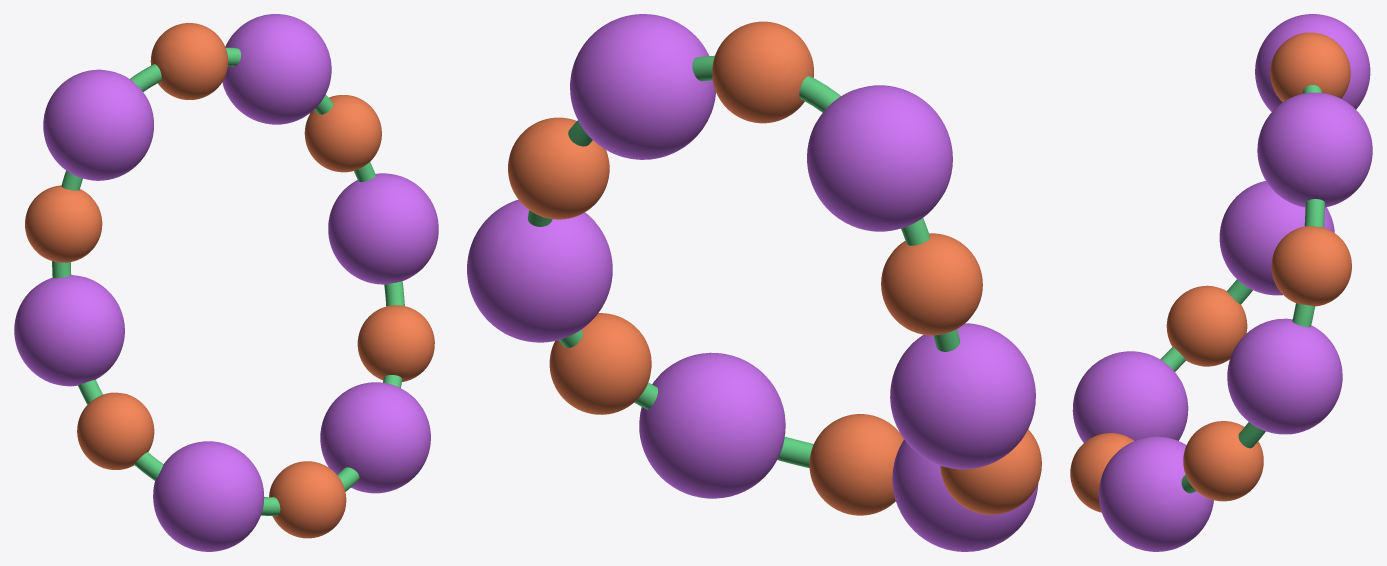
The model's file is 10. Beads.glb.
The picture shows the model from 3 angles, left to right: view 1: azimuth 30°, elevation 25°; view 2: azimuth 150°, elevation 25°; view 3: azimuth 270°, elevation 25°; orthographic projection. The views are drawn at different scales.
Visible parts, largest first — view 1: Sphere.029, Sphere.025, Sphere.024, Sphere.027, Sphere.026, Sphere.028, Sphere.030, Sphere.035, Sphere.032, Sphere.034, Sphere.031, Sphere.033 (+1 smaller); view 2: Sphere.029, Sphere.026, Sphere.028, Sphere.024, Sphere.027, Sphere.035, Sphere.034, Sphere.033, Sphere.032, Sphere.031, Sphere.025, Sphere.030 (+1 smaller); view 3: Sphere.027, Sphere.028, Sphere.026, Sphere.025, Sphere.024, Sphere.033, Sphere.030, Sphere.032, Sphere.034, Sphere.029, Sphere.031, Beads.
Part boxes in pixels (left/top/right/bottom): Sphere.029: left=43, top=69, right=153, bottom=180; Sphere.025: left=153, top=441, right=264, bottom=551; Sphere.024: left=14, top=275, right=124, bottom=386; Sphere.027: left=328, top=173, right=438, bottom=284; Sphere.026: left=320, top=382, right=430, bottom=493; Sphere.028: left=222, top=14, right=331, bottom=124; Sphere.030: left=77, top=392, right=154, bottom=469; Sphere.035: left=25, top=185, right=102, bottom=262; Sphere.032: left=357, top=305, right=434, bottom=381; Sphere.034: left=150, top=23, right=228, bottom=99; Sphere.031: left=269, top=461, right=346, bottom=538; Sphere.033: left=304, top=95, right=381, bottom=172; Sphere.029: left=807, top=85, right=952, bottom=231; Sphere.026: left=639, top=352, right=785, bottom=498; Sphere.028: left=570, top=14, right=715, bottom=159; Sphere.024: left=890, top=323, right=1035, bottom=469; Sphere.027: left=467, top=199, right=612, bottom=342; Sphere.035: left=881, top=233, right=982, bottom=335; Sphere.034: left=712, top=21, right=813, bottom=123; Sphere.033: left=508, top=117, right=609, bottom=219; Sphere.032: left=549, top=313, right=651, bottom=414; Sphere.031: left=809, top=414, right=903, bottom=515; Sphere.025: left=892, top=439, right=1038, bottom=551; Sphere.030: left=940, top=429, right=1041, bottom=514; Sphere.027: left=1227, top=318, right=1342, bottom=434; Sphere.028: left=1257, top=92, right=1372, bottom=207; Sphere.026: left=1098, top=436, right=1213, bottom=551; Sphere.025: left=1072, top=351, right=1188, bottom=442; Sphere.024: left=1219, top=181, right=1334, bottom=295; Sphere.033: left=1271, top=226, right=1351, bottom=306; Sphere.030: left=1166, top=285, right=1247, bottom=366; Sphere.032: left=1183, top=421, right=1263, bottom=501; Sphere.034: left=1270, top=32, right=1350, bottom=101; Sphere.029: left=1255, top=14, right=1370, bottom=111; Sphere.031: left=1070, top=433, right=1133, bottom=512; Beads: left=1160, top=85, right=1324, bottom=493.
Size of the model in its own units: 0.582 by 0.5966 by 0.3539.
